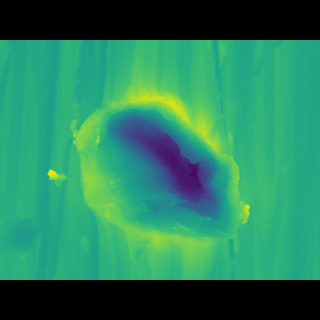Loch: (64, 95, 261, 228)
